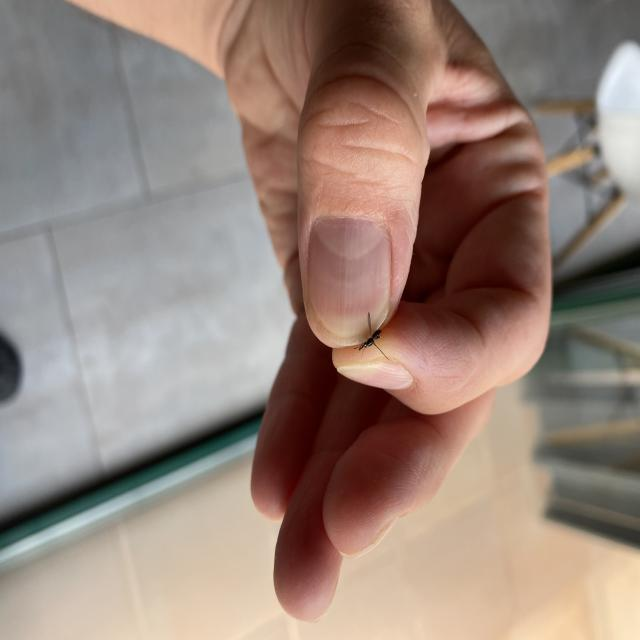albopictus: (348, 301, 392, 362)
